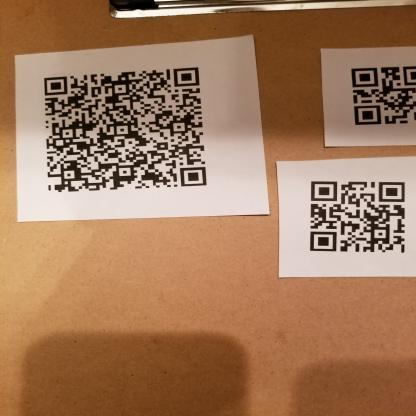qr: (41, 65, 214, 196), (306, 175, 411, 256), (346, 63, 416, 128)
